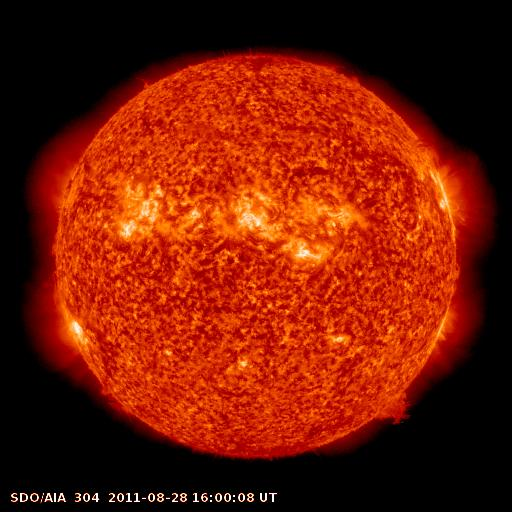prominence: (365, 381, 424, 435)
